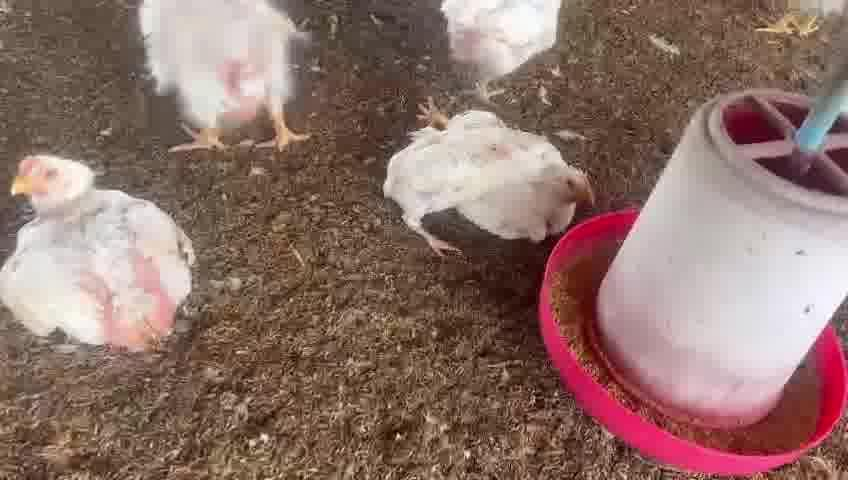AbNormal: (5, 155, 193, 346), (380, 102, 597, 229)
Normal: (138, 1, 316, 152), (435, 0, 564, 102)
